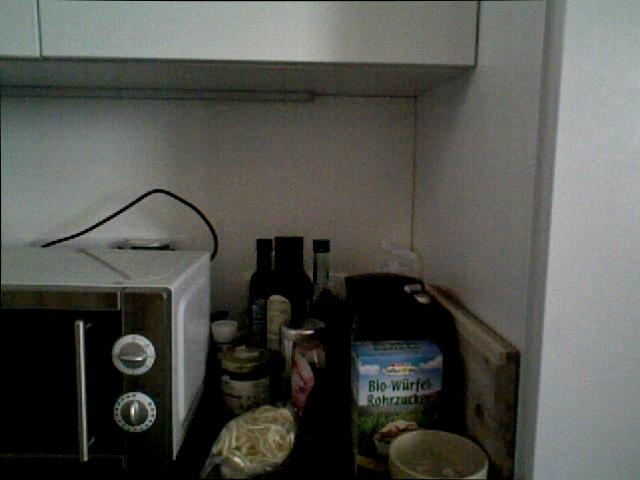bench: (248, 240, 278, 330), (284, 239, 307, 322), (312, 240, 331, 325)
bird: (386, 425, 488, 480)
hot dog: (472, 7, 640, 480)
knife: (0, 243, 211, 469)
